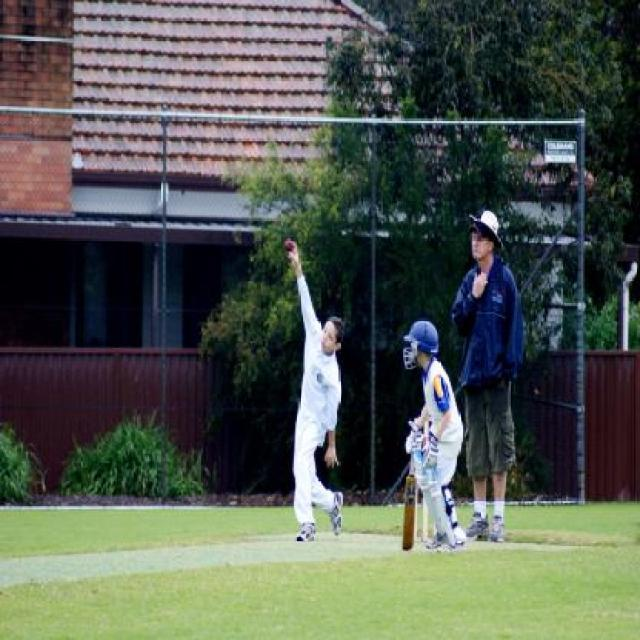-: (275, 223, 306, 268)
